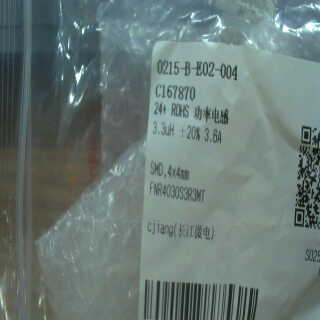3.3uH: (149, 120, 176, 139)
